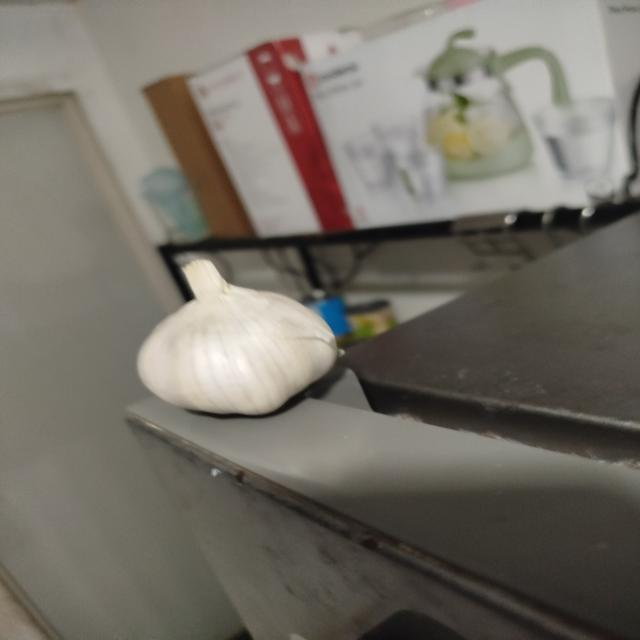garlic: (136, 258, 343, 416)
